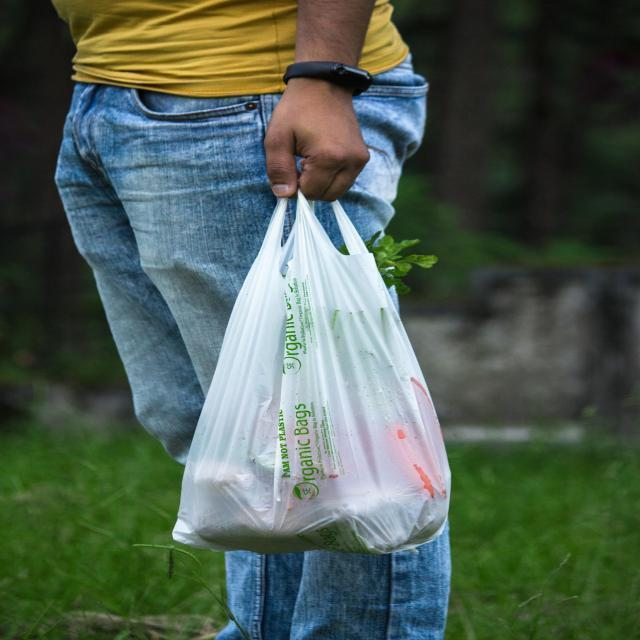Plastic_Bag: (168, 178, 466, 570)
